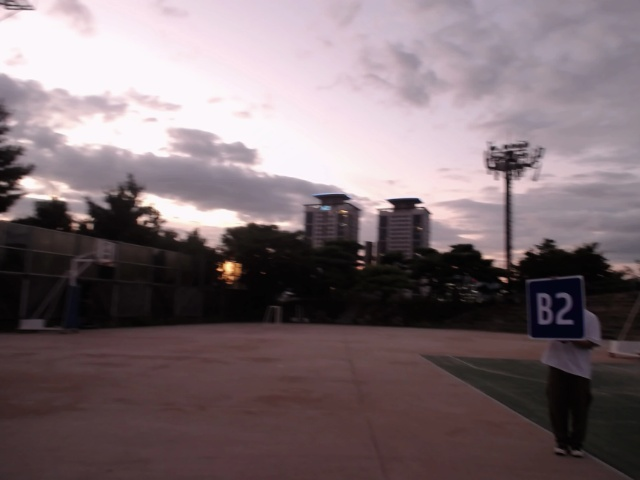delivery_b2: (525, 277, 586, 341)
